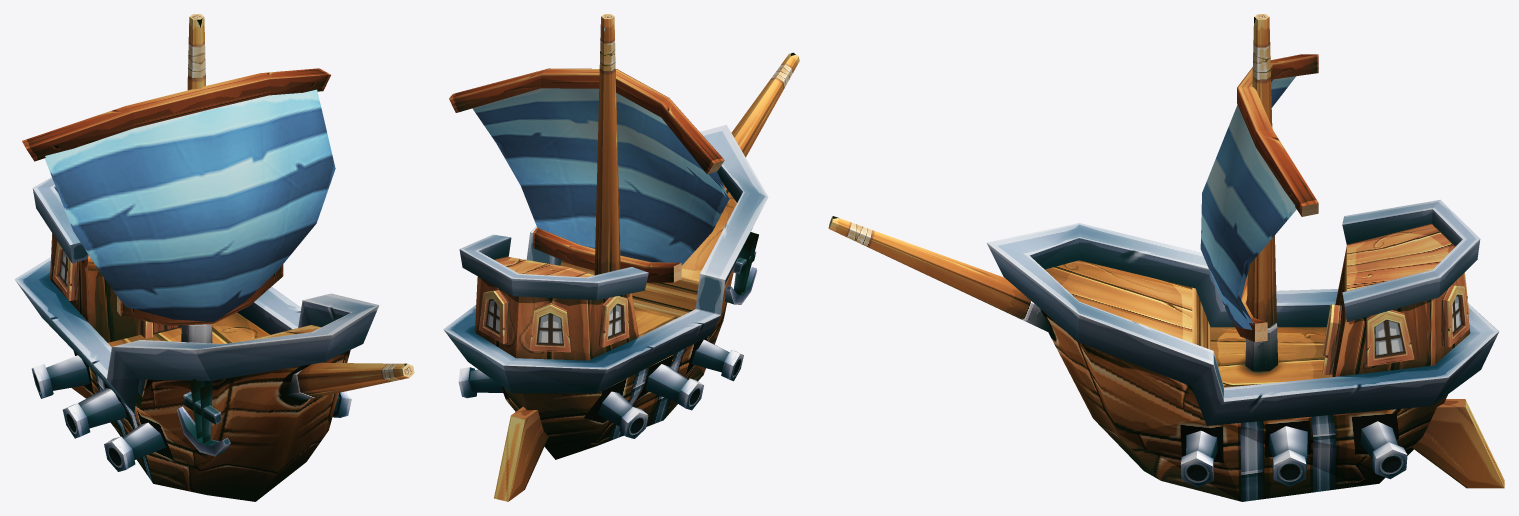
Rendered from chuanhefan2.FBX.
3 renders of one model, left to right at view 1: azimuth 30°, elevation 25°; view 2: azimuth 150°, elevation 25°; view 3: azimuth 270°, elevation 25°, orthographic. The views are drawn at different scales.
Visible parts, largest first — view 1: chuan, fan; view 2: chuan, fan; view 3: chuan, fan.
Part boxes in pixels (x1=…): chuan: x1=14, y1=14, x2=414, y2=501; fan: x1=44, y1=89, x2=335, y2=321; chuan: x1=443, y1=14, x2=799, y2=501; fan: x1=472, y1=88, x2=729, y2=265; chuan: x1=828, y1=14, x2=1504, y2=501; fan: x1=1200, y1=76, x2=1296, y2=329.
Bounding box in the file's own units: 8.63 × 12.76 × 16.19.
